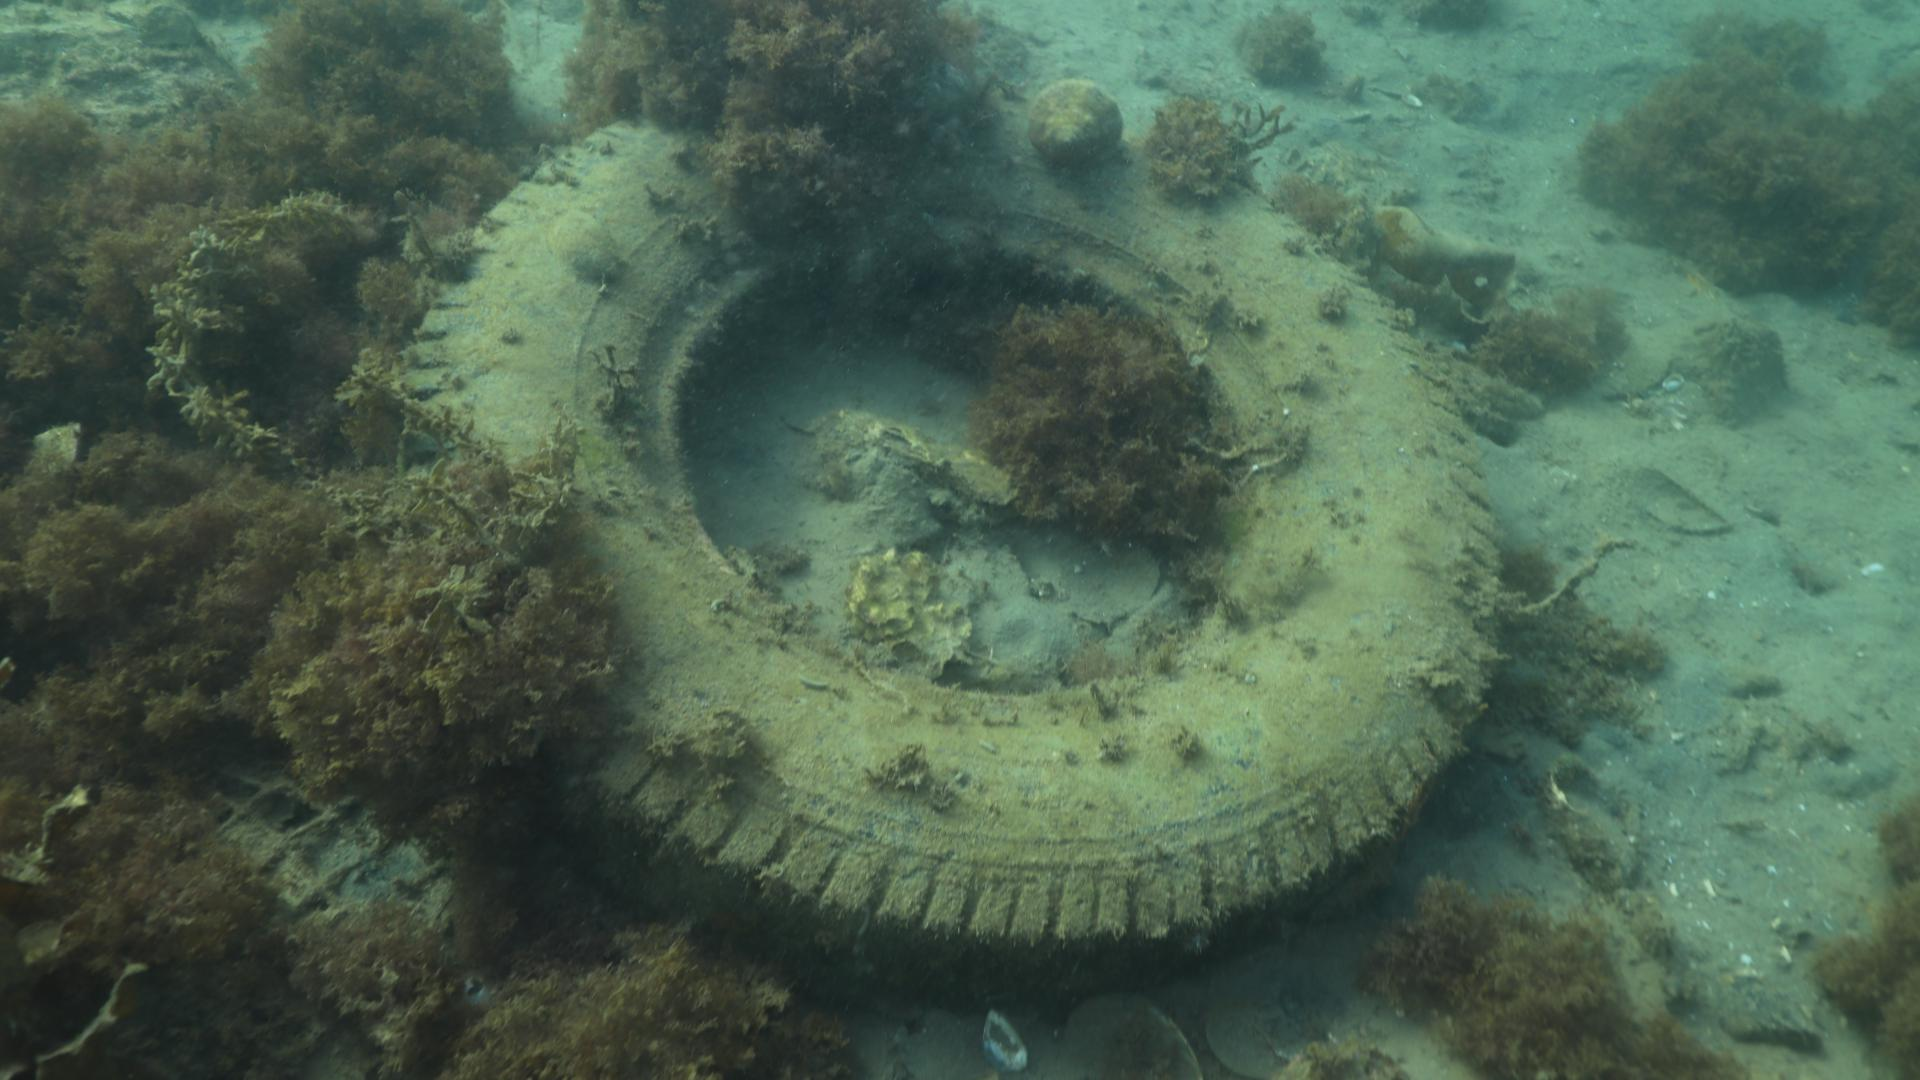tire: (396, 84, 1501, 1011)
